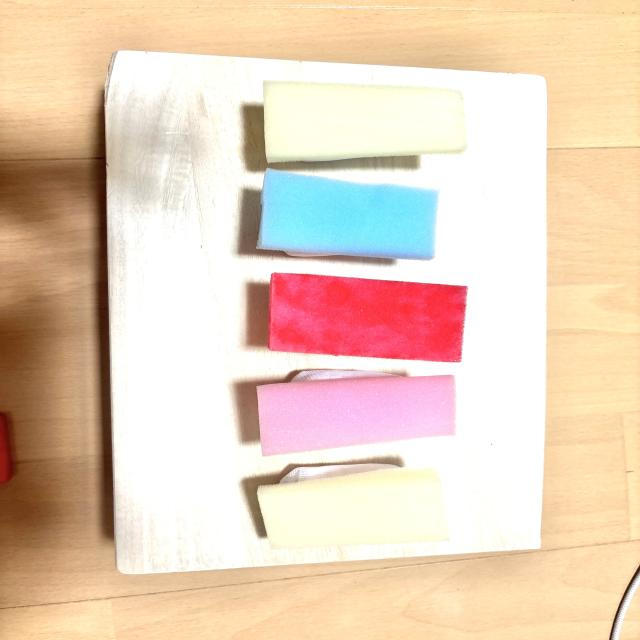ika: (257, 169, 439, 260)
maguro: (268, 273, 467, 362)
tai: (257, 370, 456, 456)
tamago: (263, 81, 467, 162), (257, 464, 448, 549)
